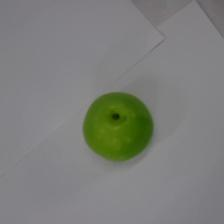green: (83, 92, 153, 161)
